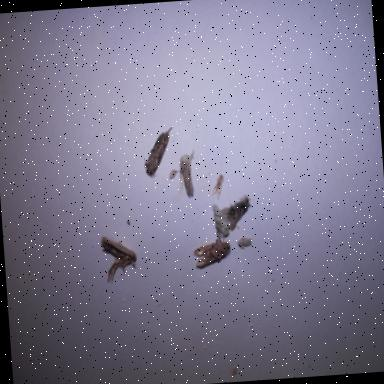pbw: (100, 234, 138, 286), (140, 124, 176, 178), (192, 238, 232, 270), (212, 201, 231, 242), (178, 154, 194, 200)
